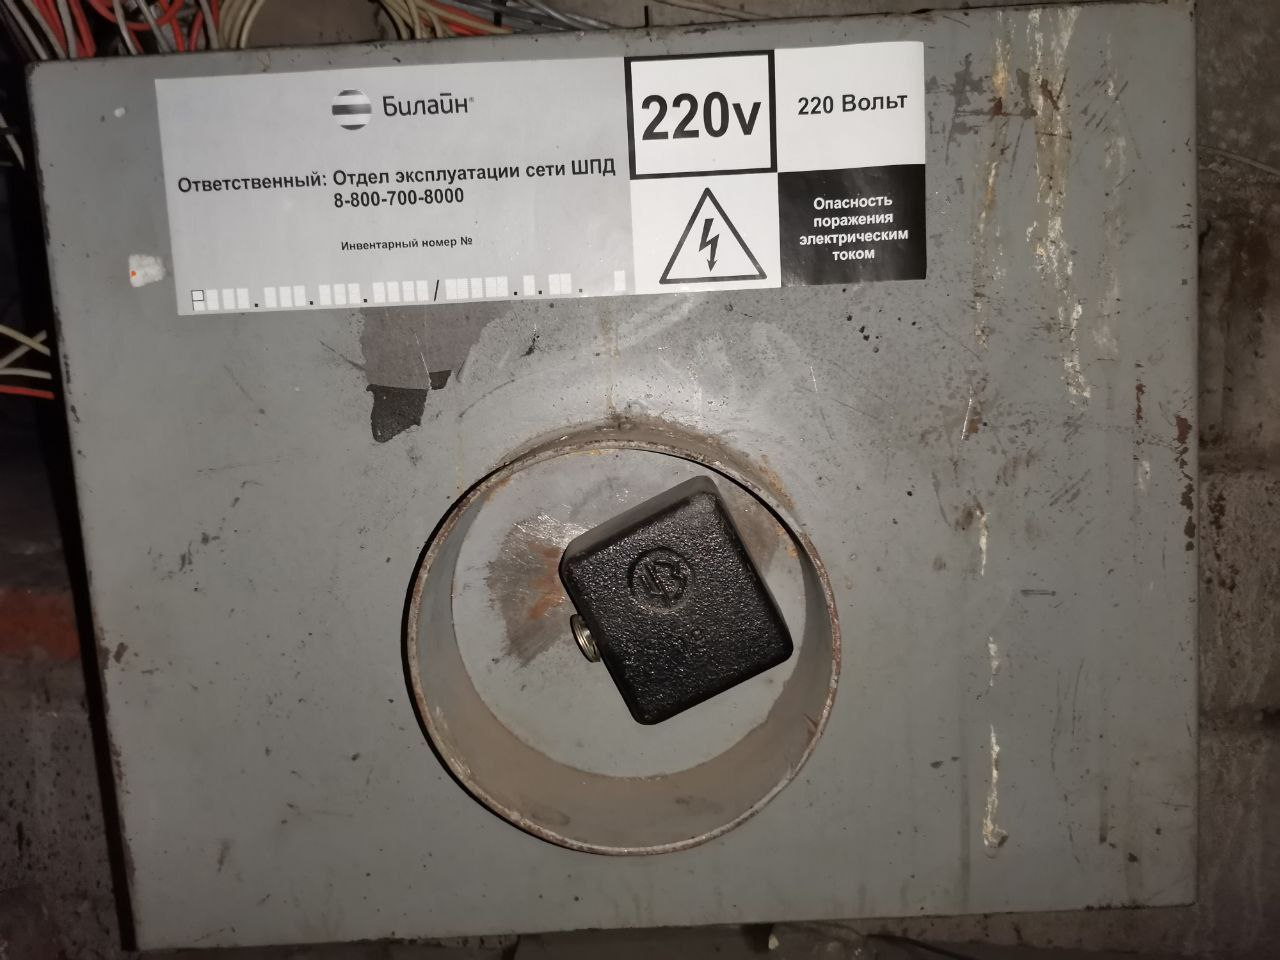shta-3: (21, 2, 1200, 949)
